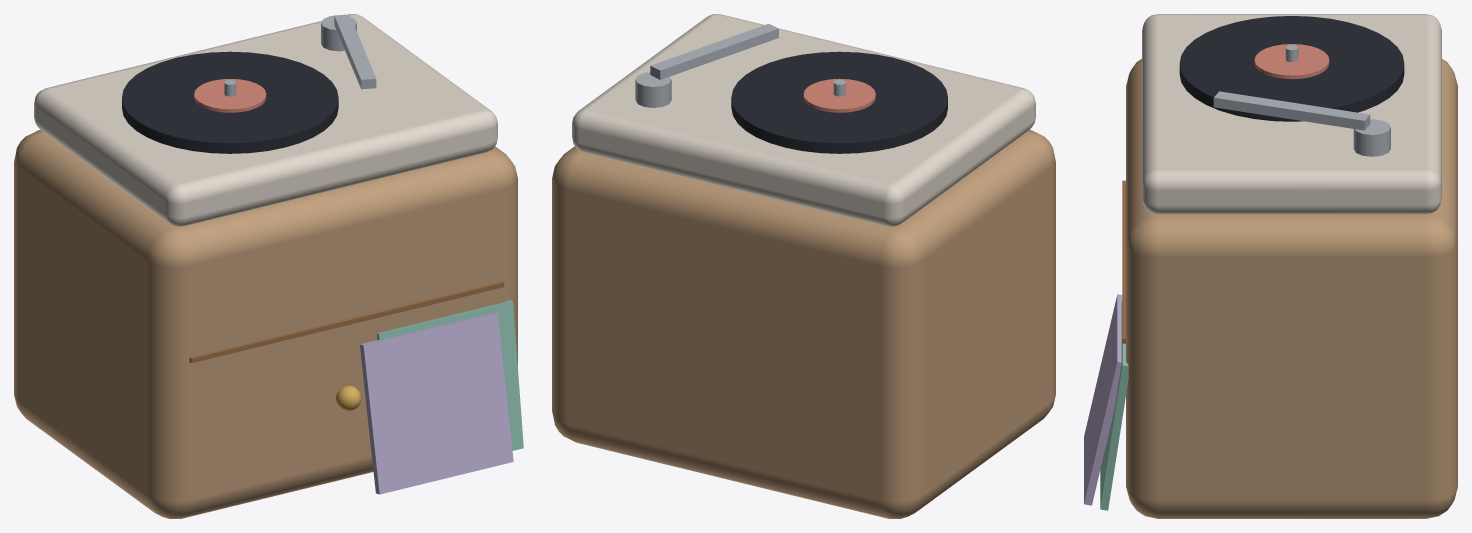
File: furn_turntable_ph.glb
3 views of the same model, side by side, from view 1: azimuth 30°, elevation 25°; view 2: azimuth 150°, elevation 25°; view 3: azimuth 270°, elevation 25° (orthographic). The views are drawn at different scales.
Parts seen in each view (by area): view 1: furn_turntable; view 2: furn_turntable; view 3: furn_turntable.
Boxes of the visible parts, bbox=[...] form: furn_turntable: bbox=[14, 14, 523, 518]; furn_turntable: bbox=[552, 14, 1055, 518]; furn_turntable: bbox=[1084, 14, 1457, 518].
Size of the model in its own units: 0.82 by 0.775 by 0.6985.
